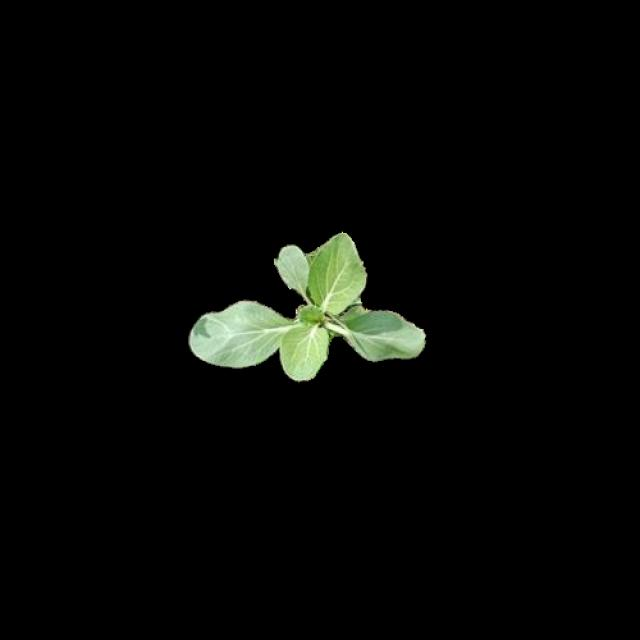not-mature: (188, 234, 428, 384)
unhealthy: (186, 232, 425, 382)
